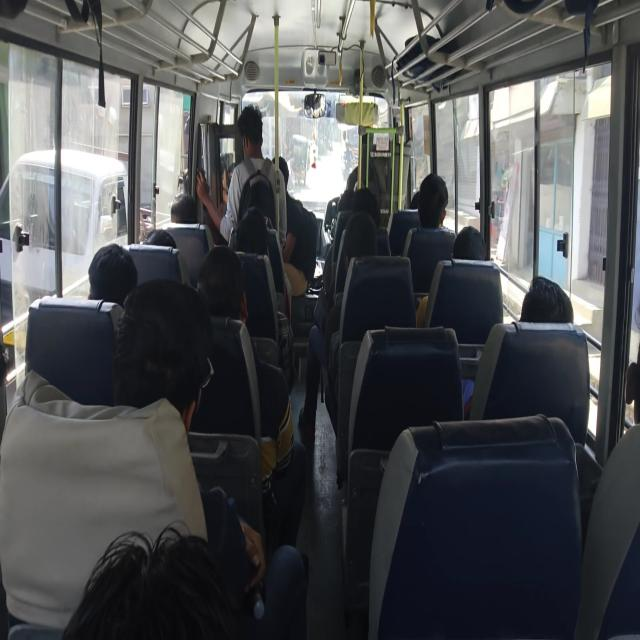person: (60, 524, 245, 638), (474, 276, 574, 434), (111, 280, 213, 423), (412, 218, 482, 332), (403, 172, 455, 282), (227, 102, 280, 182), (197, 243, 246, 321), (88, 242, 138, 312), (522, 276, 574, 325), (233, 206, 274, 258), (451, 225, 488, 262), (350, 186, 380, 231), (169, 192, 198, 224), (143, 228, 178, 250), (276, 156, 290, 191), (409, 190, 422, 210)
